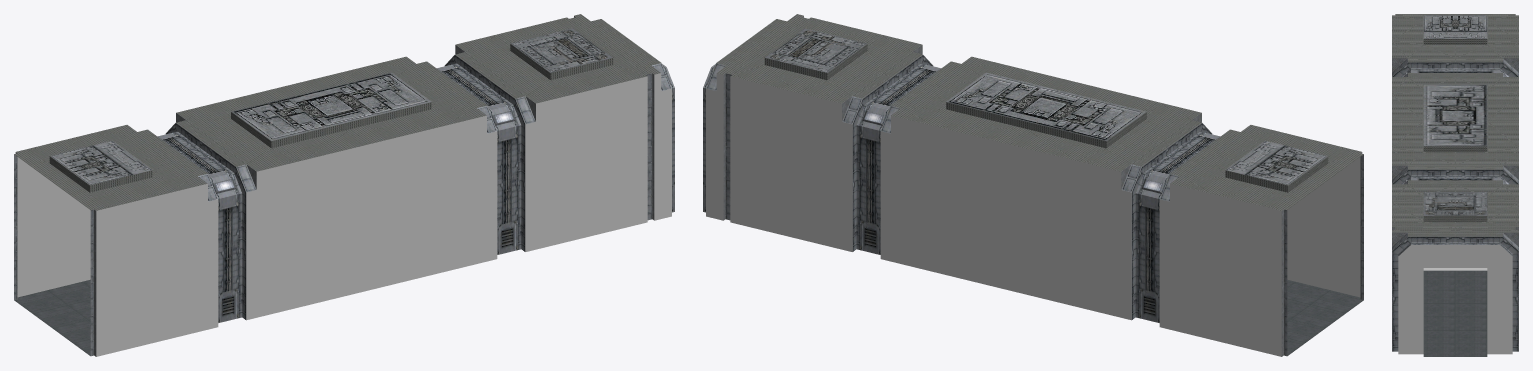
Rendered from poi_all_impl_bunker_small_outpost_s01_r22_hall4_mesh.fbx.
3 renders of one model, left to right at view 1: azimuth 30°, elevation 25°; view 2: azimuth 150°, elevation 25°; view 3: azimuth 270°, elevation 25°, orthographic. The views are drawn at different scales.
Parts seen in each view (by area): view 1: mesh_node; view 2: mesh_node; view 3: mesh_node.
Boxes of the visible parts, bbox=[...] form: mesh_node: bbox=[14, 14, 674, 356]; mesh_node: bbox=[703, 14, 1363, 356]; mesh_node: bbox=[1392, 14, 1518, 356].
Bounding box in the file's own units: 17 × 4.2 × 4.
